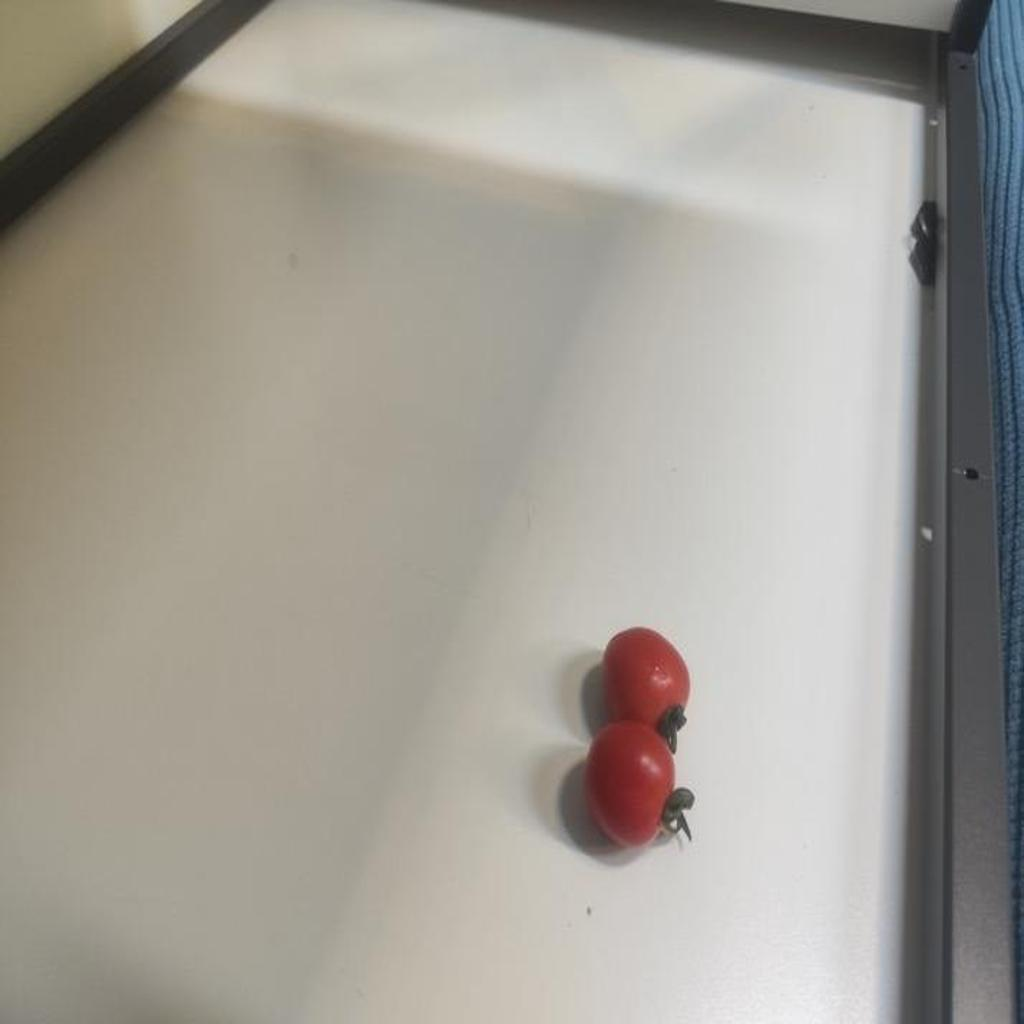tomato: (581, 719, 688, 848), (606, 628, 688, 743)
